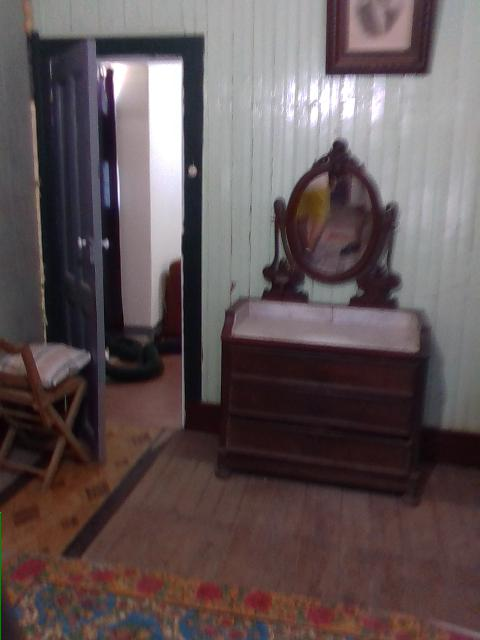semi_door: (27, 32, 208, 466)
